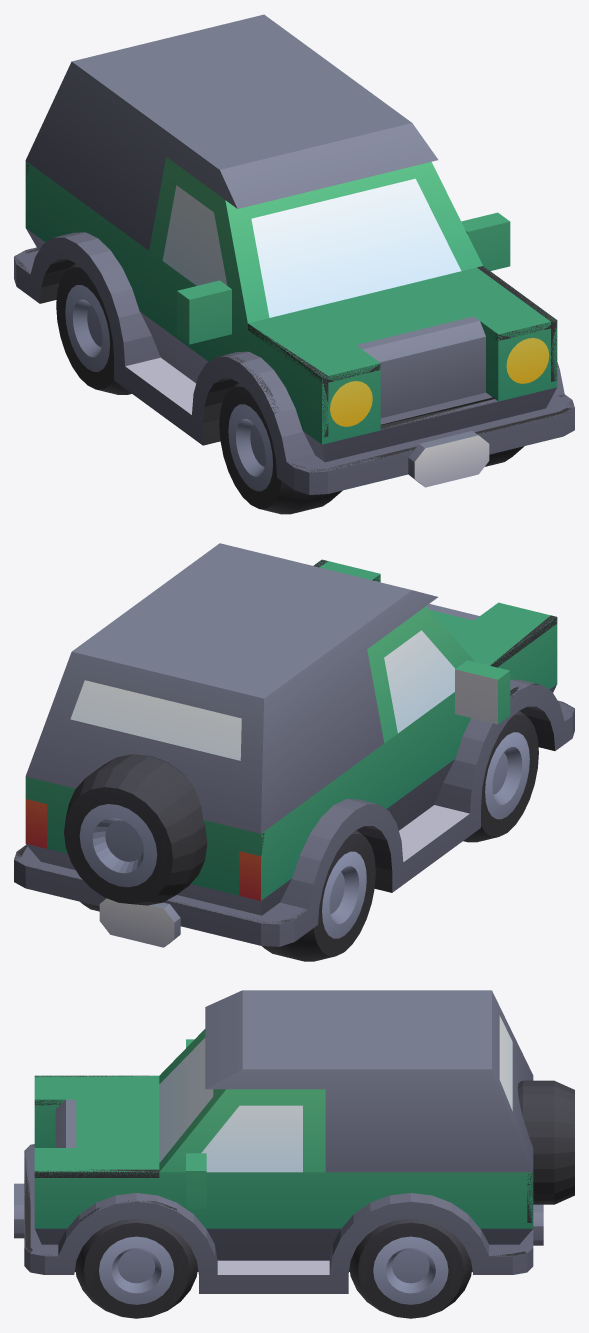
File: ToySuv.fbx
3 renders of one model, top to bottom at view 1: azimuth 30°, elevation 25°; view 2: azimuth 150°, elevation 25°; view 3: azimuth 270°, elevation 25°, orthographic. The views are drawn at different scales.
Parts seen in each view (by area): view 1: ToySuv_Body, ToySuv_Part_Hood, ToySuv_Part_FrontBumper, ToySuv_Part_Grille, Wheel_FR, Wheel_RR, ToySuv_Part_FenderRight, ToySuv_Part_DoorRight, ToySuv_Part_RearBumper; view 2: ToySuv_Body, ToySuv_Part_Trunk, ToySuv_Part_RearBumper, ToySuv_Part_DoorRight, Wheel_RR, Wheel_FR, ToySuv_Part_Hood, ToySuv_Part_FenderRight, ToySuv_Part_FrontBumper; view 3: ToySuv_Body, ToySuv_Part_Hood, Wheel_RL, Wheel_FL, ToySuv_Part_DoorLeft, ToySuv_Part_Trunk, ToySuv_Part_FenderLeft, ToySuv_Part_RearBumper, ToySuv_Part_FrontBumper.
Boxes of the visible parts, <box> form: ToySuv_Body: <box>14,14,574,487</box>; ToySuv_Part_Hood: <box>248,267,555,376</box>; ToySuv_Part_FrontBumper: <box>274,369,574,494</box>; ToySuv_Part_Grille: <box>325,326,550,436</box>; Wheel_FR: <box>219,382,342,514</box>; Wheel_RR: <box>56,263,131,394</box>; ToySuv_Part_FenderRight: <box>212,294,321,439</box>; ToySuv_Part_DoorRight: <box>132,232,233,361</box>; ToySuv_Part_RearBumper: <box>14,221,45,303</box>; ToySuv_Body: <box>14,543,574,947</box>; ToySuv_Part_Trunk: <box>25,693,262,905</box>; ToySuv_Part_RearBumper: <box>14,844,317,946</box>; ToySuv_Part_DoorRight: <box>368,692,468,809</box>; Wheel_RR: <box>262,830,375,961</box>; Wheel_FR: <box>463,710,538,842</box>; ToySuv_Part_Hood: <box>316,560,555,665</box>; ToySuv_Part_FenderRight: <box>468,618,557,754</box>; ToySuv_Part_FrontBumper: <box>535,684,574,750</box>; ToySuv_Body: <box>14,990,543,1293</box>; ToySuv_Part_Hood: <box>34,1075,159,1172</box>; Wheel_RL: <box>349,1218,472,1318</box>; Wheel_FL: <box>75,1218,197,1318</box>; ToySuv_Part_DoorLeft: <box>183,1155,352,1229</box>; ToySuv_Part_Trunk: <box>505,1019,574,1204</box>; ToySuv_Part_FenderLeft: <box>34,1172,183,1246</box>; ToySuv_Part_RearBumper: <box>473,1223,533,1274</box>; ToySuv_Part_FrontBumper: <box>24,1228,78,1274</box>.
Bounding box in the file's own units: 1.5 × 1.3 × 2.7.
Materials: 3 (3 with a texture image).
